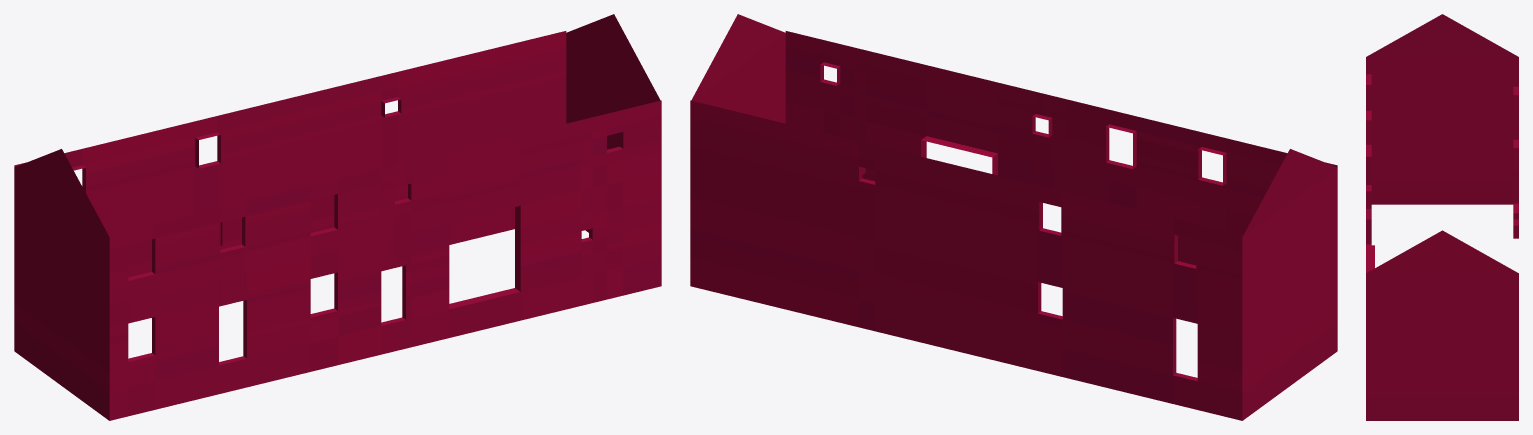
Rendered from SM_Bld_056_Masonry.glb.
3 renders of one model, left to right at view 1: azimuth 30°, elevation 25°; view 2: azimuth 150°, elevation 25°; view 3: azimuth 270°, elevation 25°, orthographic. The views are drawn at different scales.
Parts seen in each view (by area): view 1: SM_Bld_056_Masonry; view 2: SM_Bld_056_Masonry; view 3: SM_Bld_056_Masonry.
Boxes of the visible parts, x1,y1,x2,y2 form: SM_Bld_056_Masonry: [14, 14, 661, 420]; SM_Bld_056_Masonry: [690, 14, 1337, 420]; SM_Bld_056_Masonry: [1366, 14, 1518, 420].
Size of the model in its own units: 20.12 by 8.27 by 6.01.
